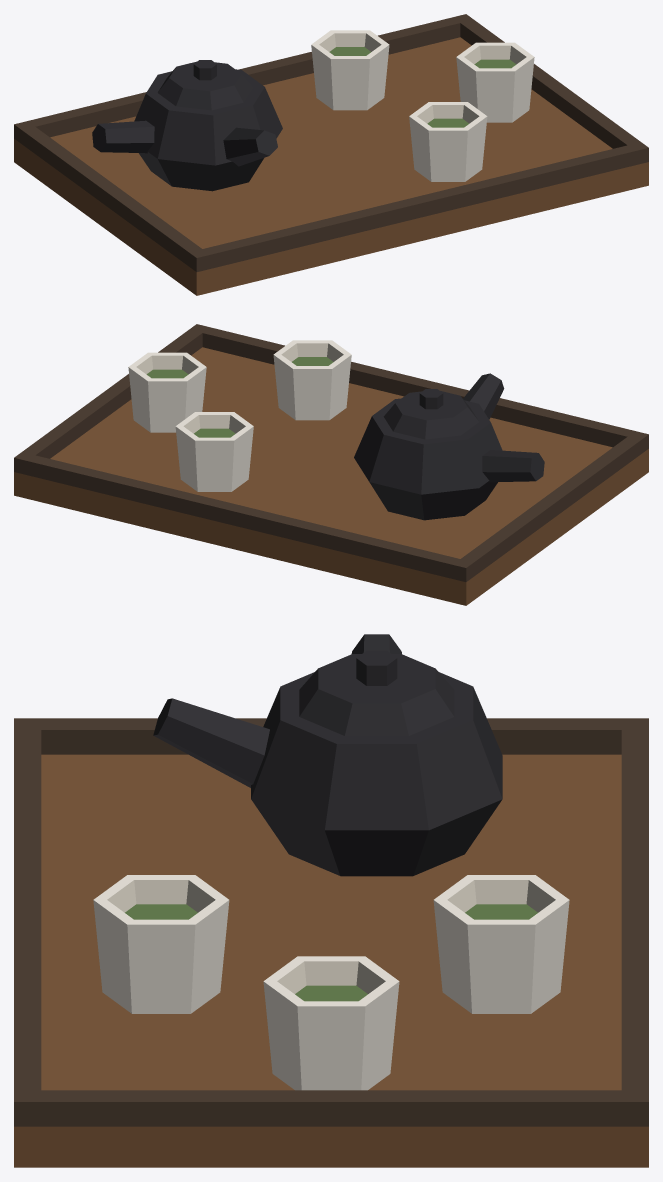
Rendered from sakura_prop_tea_set.glb.
The picture shows the model from 3 angles, top to bottom: view 1: azimuth 30°, elevation 25°; view 2: azimuth 150°, elevation 25°; view 3: azimuth 270°, elevation 25°; orthographic projection. The views are drawn at different scales.
Visible parts, largest first — view 1: sakura_prop_tea_set; view 2: sakura_prop_tea_set; view 3: sakura_prop_tea_set.
Boxes of the visible parts, left/top/right/bottom form: sakura_prop_tea_set: left=14, top=14, right=648, bottom=295; sakura_prop_tea_set: left=14, top=324, right=648, bottom=605; sakura_prop_tea_set: left=14, top=634, right=648, bottom=1167.
Bounding box in the file's own units: 0.48 × 0.1296 × 0.336.
Materials: 1 (1 with a texture image).
